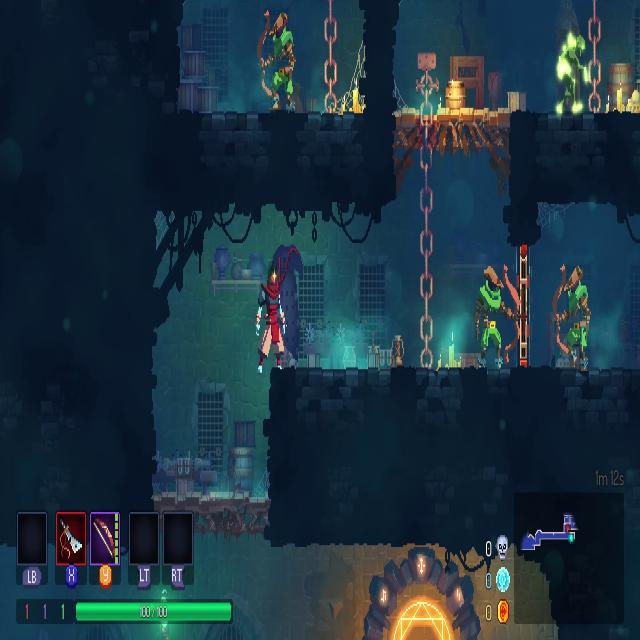agents: (254, 264, 288, 374)
door_regular: (518, 245, 530, 372)
enemy_archer: (478, 264, 518, 368), (259, 8, 296, 108), (554, 270, 588, 374)
enemy_green_puncher: (555, 34, 587, 116)
wood_floor: (393, 105, 512, 161), (152, 492, 271, 544)
